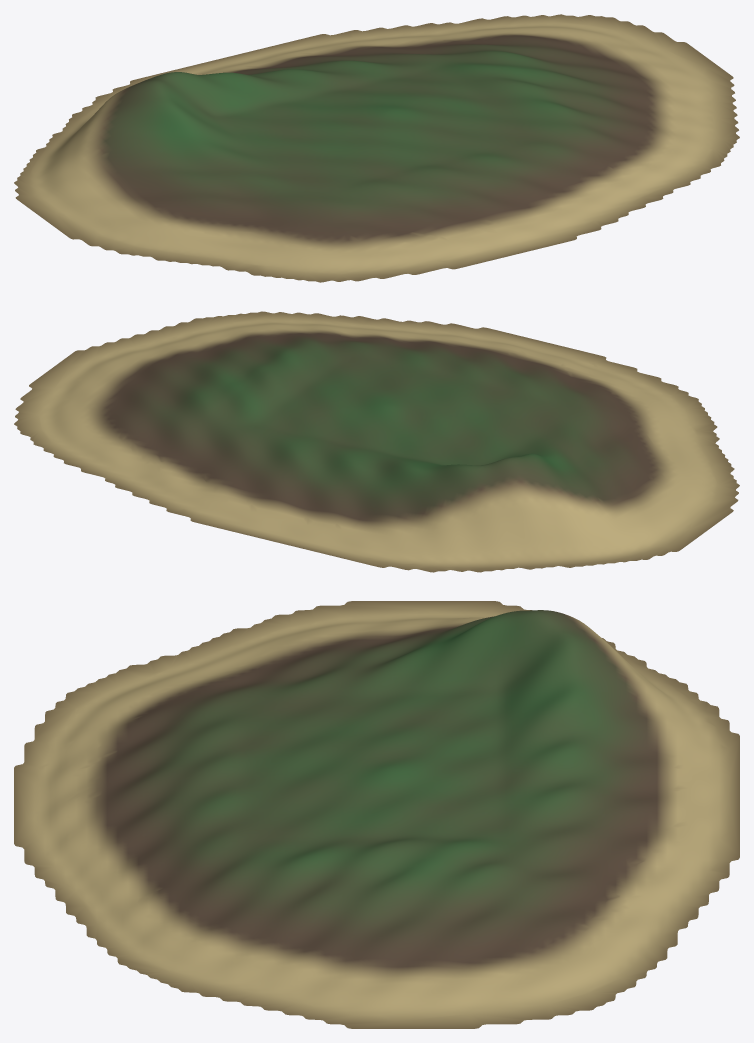
Rendered from island_base_lod0.glb.
3 views of the same model, one above another, from view 1: azimuth 30°, elevation 25°; view 2: azimuth 150°, elevation 25°; view 3: azimuth 270°, elevation 25° (orthographic). The views are drawn at different scales.
Parts seen in each view (by area): view 1: GEO_island_lod0; view 2: GEO_island_lod0; view 3: GEO_island_lod0.
Boxes of the visible parts, left/top/right/bottom form: GEO_island_lod0: left=14, top=14, right=739, bottom=282; GEO_island_lod0: left=14, top=311, right=739, bottom=572; GEO_island_lod0: left=14, top=601, right=739, bottom=1028.
Size of the model in its own units: 35.25 by 3.36 by 25.28.
